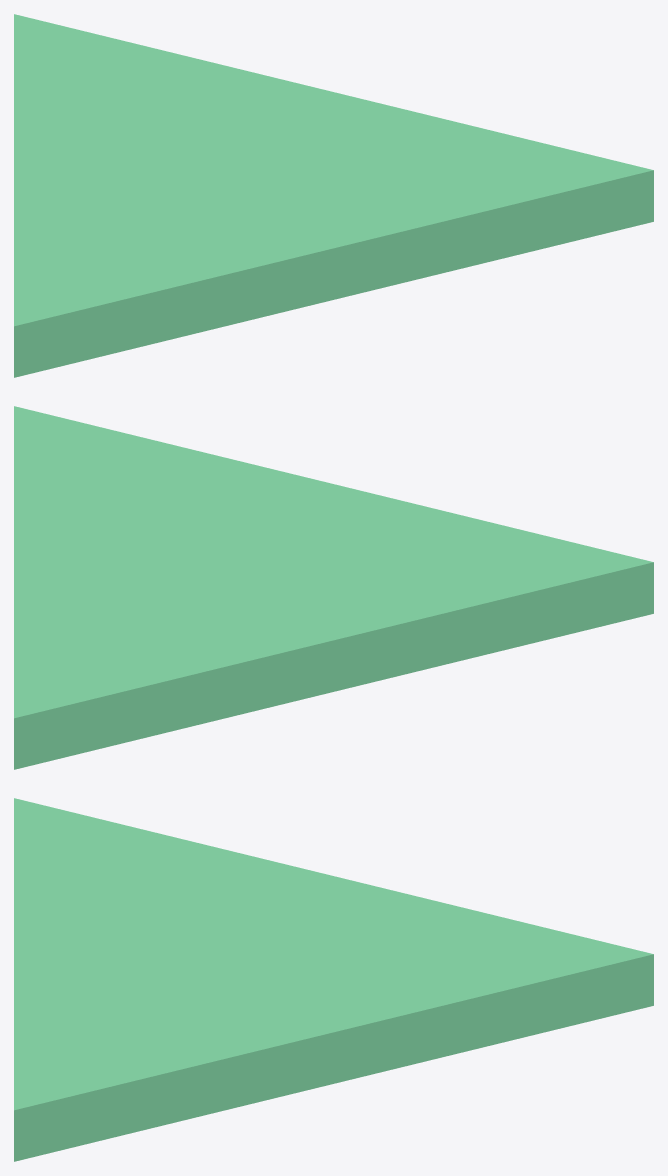
The model's file is triangolo_equilatero.glb.
3 renders of one model, top to bottom at view 1: azimuth 30°, elevation 25°; view 2: azimuth 150°, elevation 25°; view 3: azimuth 270°, elevation 25°, orthographic.
Parts seen in each view (by area): view 1: Cilindro; view 2: Cilindro; view 3: Cilindro.
Part boxes in pixels (x1=…): Cilindro: x1=14, y1=14, x2=653, y2=377; Cilindro: x1=14, y1=406, x2=653, y2=769; Cilindro: x1=14, y1=798, x2=653, y2=1161.
Bounding box in the file's own units: 1.04 × 0.08 × 0.9.
